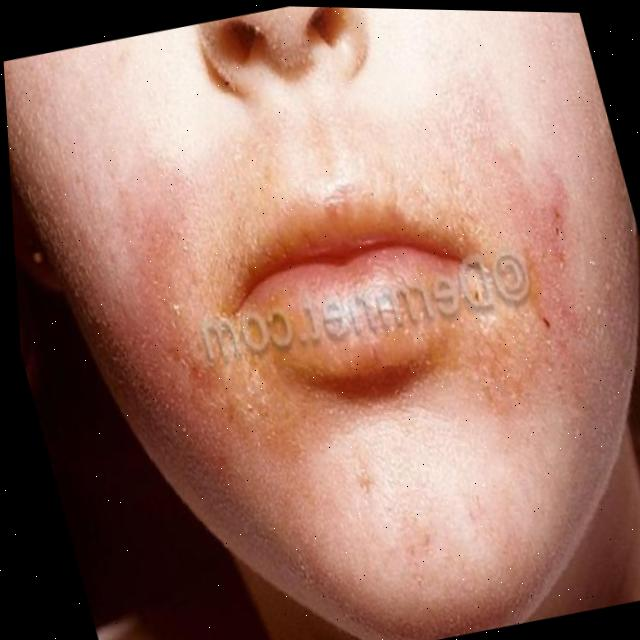Eczema: (133, 148, 610, 485)
